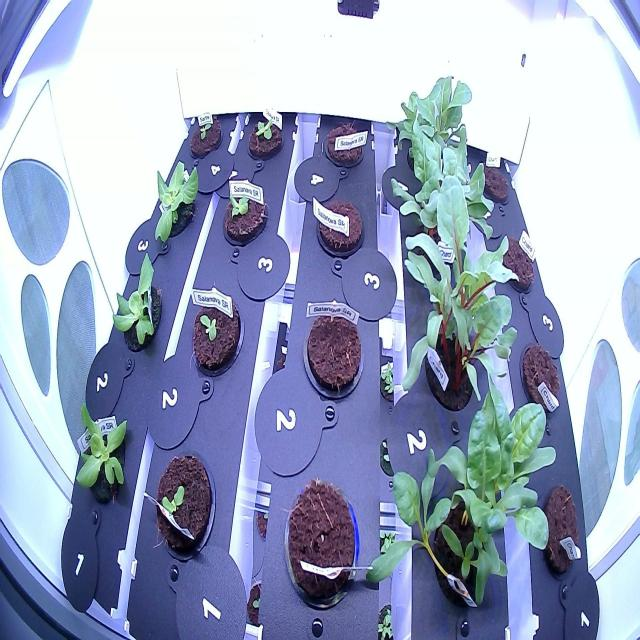germination: (147, 442, 218, 570), (188, 288, 247, 382), (186, 104, 224, 165)
pod: (276, 469, 367, 613), (298, 291, 371, 406), (530, 474, 592, 586), (511, 331, 572, 421), (310, 192, 367, 260), (490, 226, 541, 296), (469, 150, 520, 216), (316, 114, 368, 176)
young: (107, 248, 172, 362), (144, 143, 208, 258), (69, 397, 134, 506), (218, 178, 272, 255), (244, 110, 287, 167)
